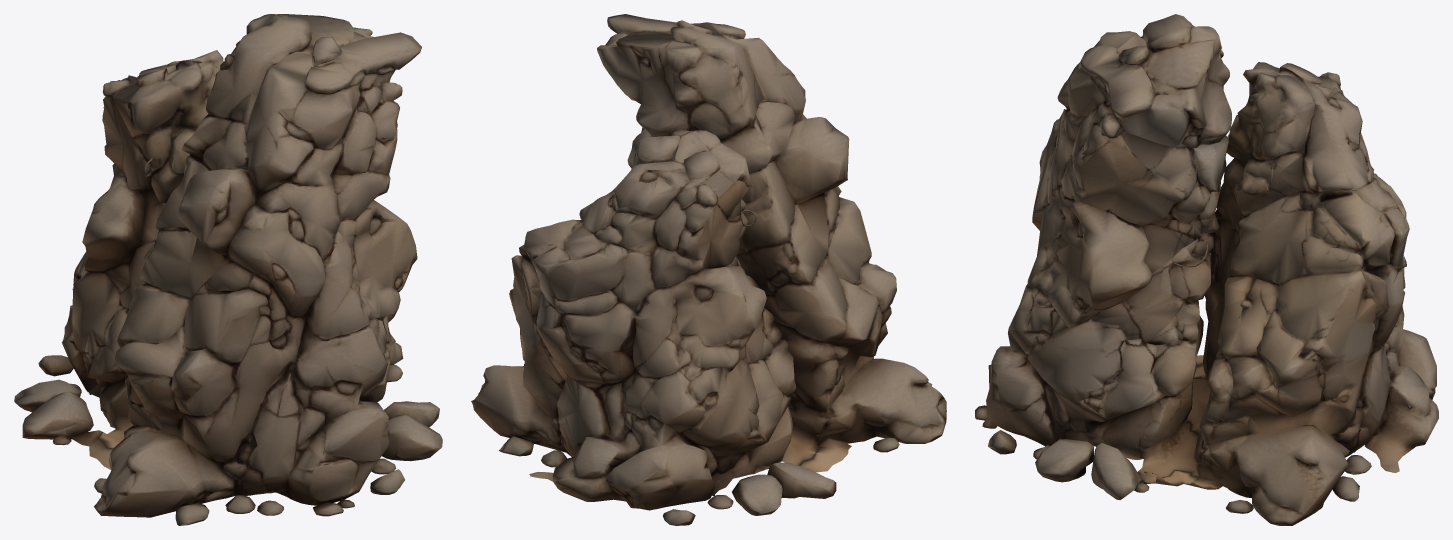
File: ch9_tectonic_fault_rock_LOD0.glb
The picture shows the model from 3 angles, left to right: view 1: azimuth 30°, elevation 25°; view 2: azimuth 150°, elevation 25°; view 3: azimuth 270°, elevation 25°; orthographic projection. The views are drawn at different scales.
Parts seen in each view (by area): view 1: tripo_node_c82a8420-657e-4b54-bbeb-f1ab4b4a74dd; view 2: tripo_node_c82a8420-657e-4b54-bbeb-f1ab4b4a74dd; view 3: tripo_node_c82a8420-657e-4b54-bbeb-f1ab4b4a74dd.
Part boxes in pixels (x1,y1,x2,y2): tripo_node_c82a8420-657e-4b54-bbeb-f1ab4b4a74dd: [14, 14, 442, 525]; tripo_node_c82a8420-657e-4b54-bbeb-f1ab4b4a74dd: [471, 14, 946, 525]; tripo_node_c82a8420-657e-4b54-bbeb-f1ab4b4a74dd: [975, 14, 1438, 525].
Bounding box in the file's own units: 0.998 × 0.9902 × 0.998.
Materials: 1 (1 with a texture image).
